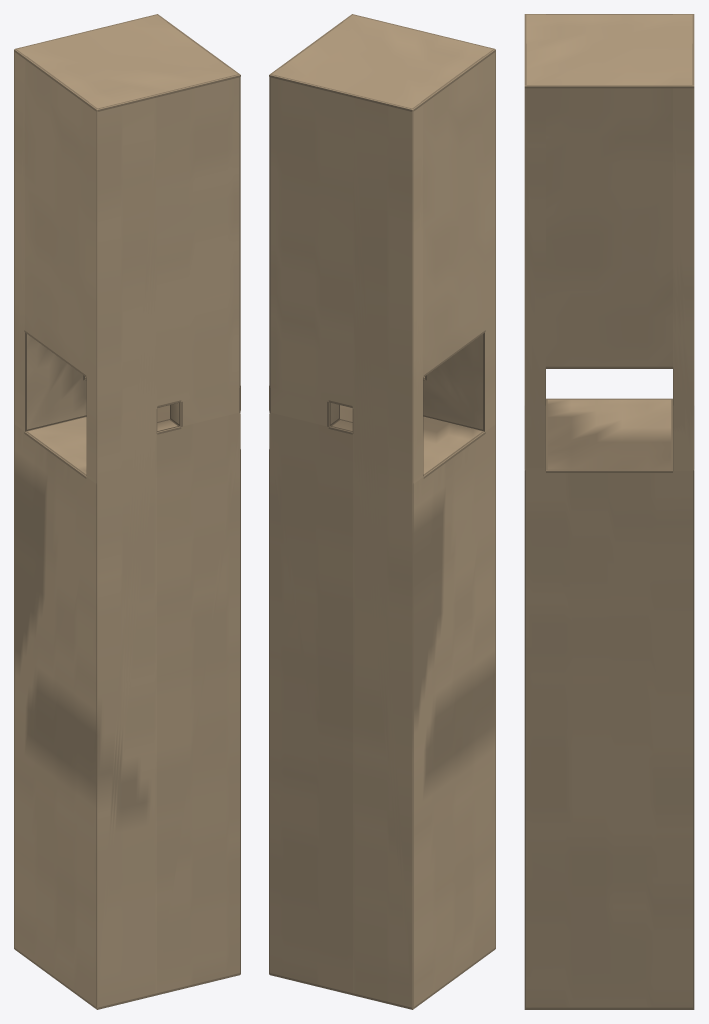
The picture shows the model from 3 angles, left to right: view 1: azimuth 30°, elevation 25°; view 2: azimuth 150°, elevation 25°; view 3: azimuth 270°, elevation 25°; orthographic projection. The views are drawn at different scales.
Parts seen in each view (by area): view 1: part-a; view 2: part-a; view 3: part-a.
Boxes of the visible parts, x1,y1,x2,y2 form: part-a: (14,14,240,1009); part-a: (269,14,495,1009); part-a: (524,14,694,1009).
Size of the model in its own units: 0.1208 by 0.7208 by 0.1208.
